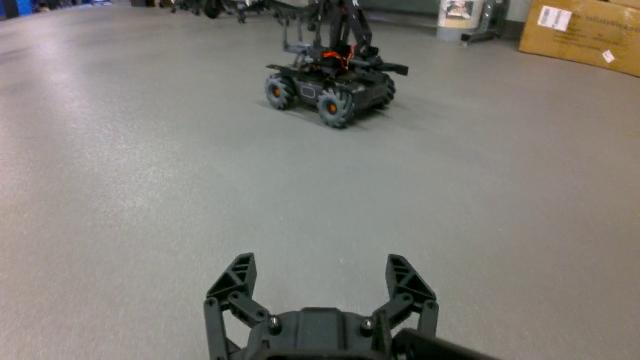robot: (266, 3, 410, 129)
